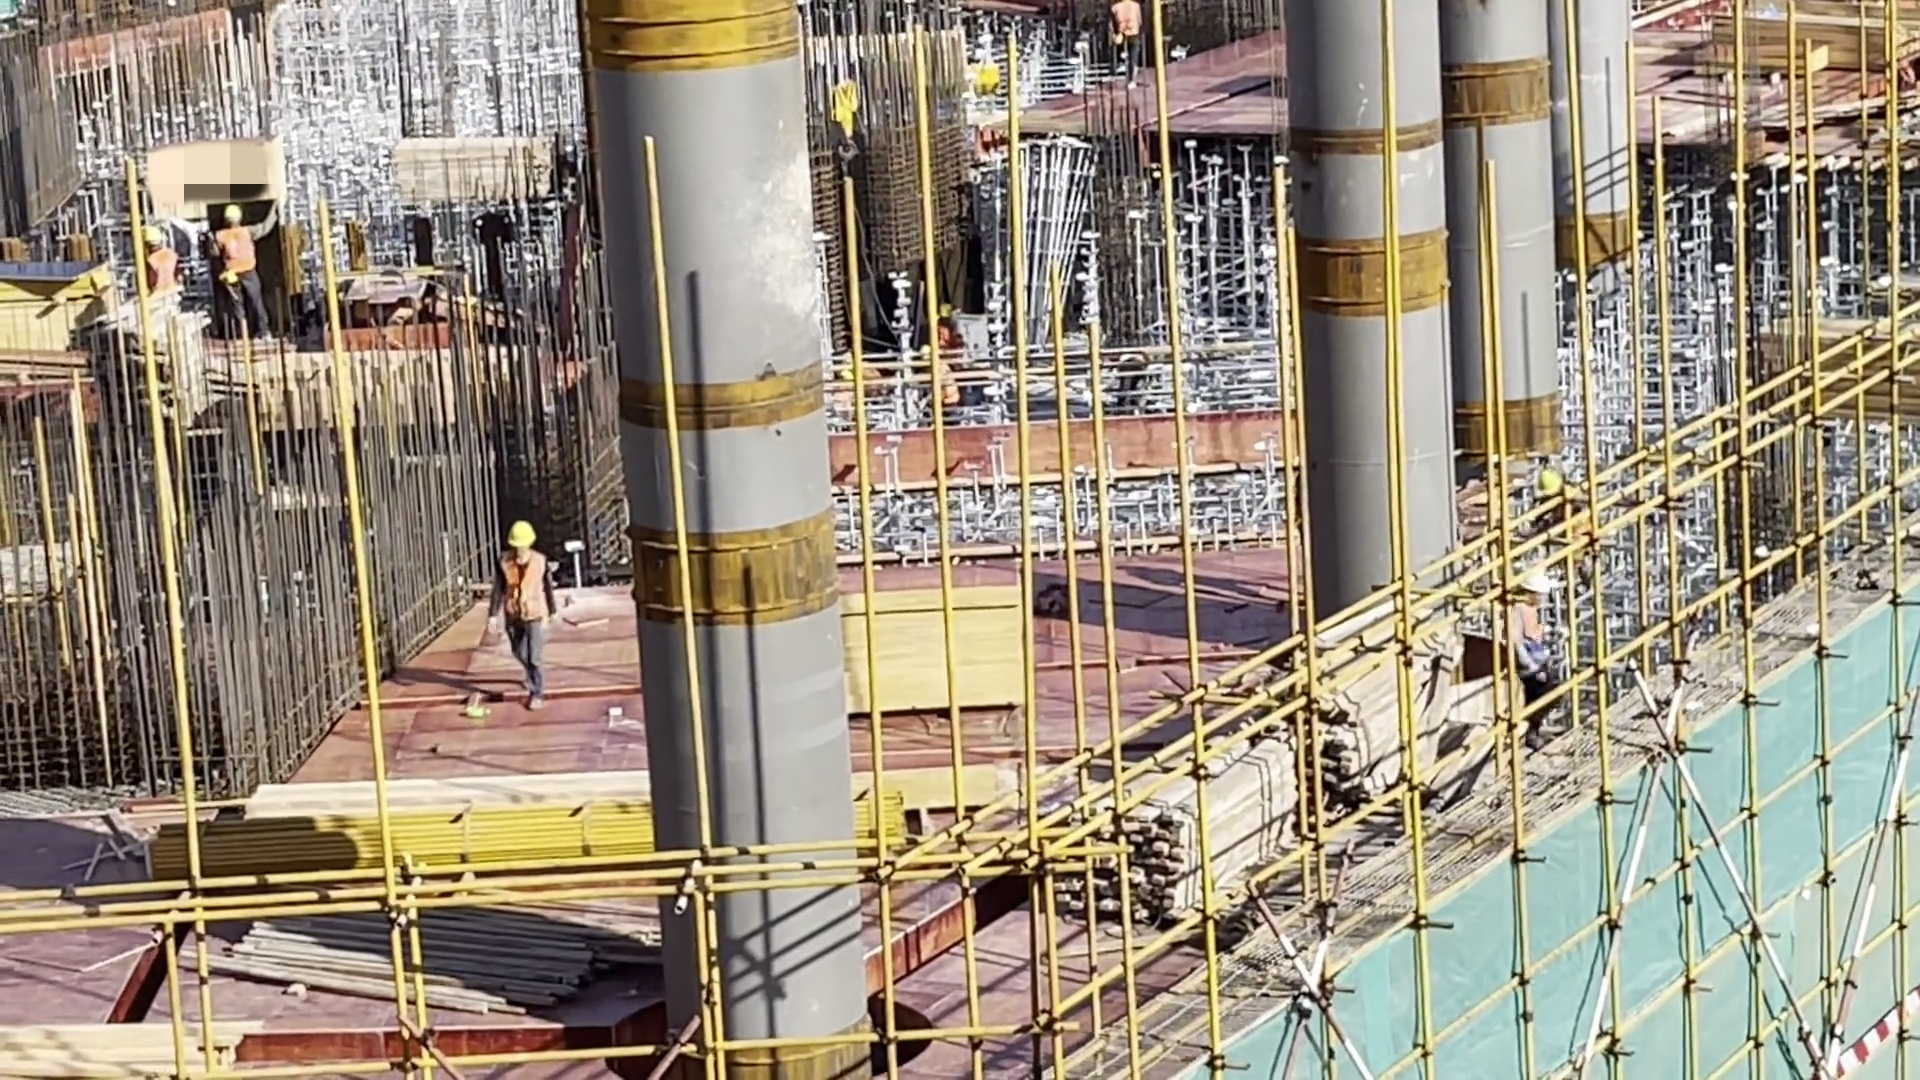helmet: (503, 515, 536, 556), (217, 203, 247, 236), (143, 225, 160, 249), (912, 345, 929, 365)
person: (1496, 559, 1572, 755), (488, 516, 565, 708), (201, 199, 281, 337), (1104, 1, 1149, 93), (914, 342, 966, 414), (138, 229, 183, 294)
vest: (210, 220, 266, 296), (499, 549, 549, 630), (143, 250, 182, 289), (1109, 1, 1143, 43)
